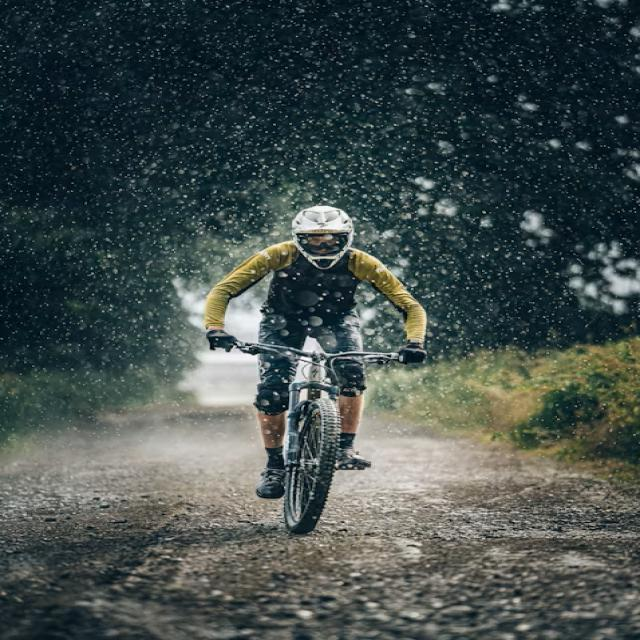Edited images: (177, 192, 458, 576)
